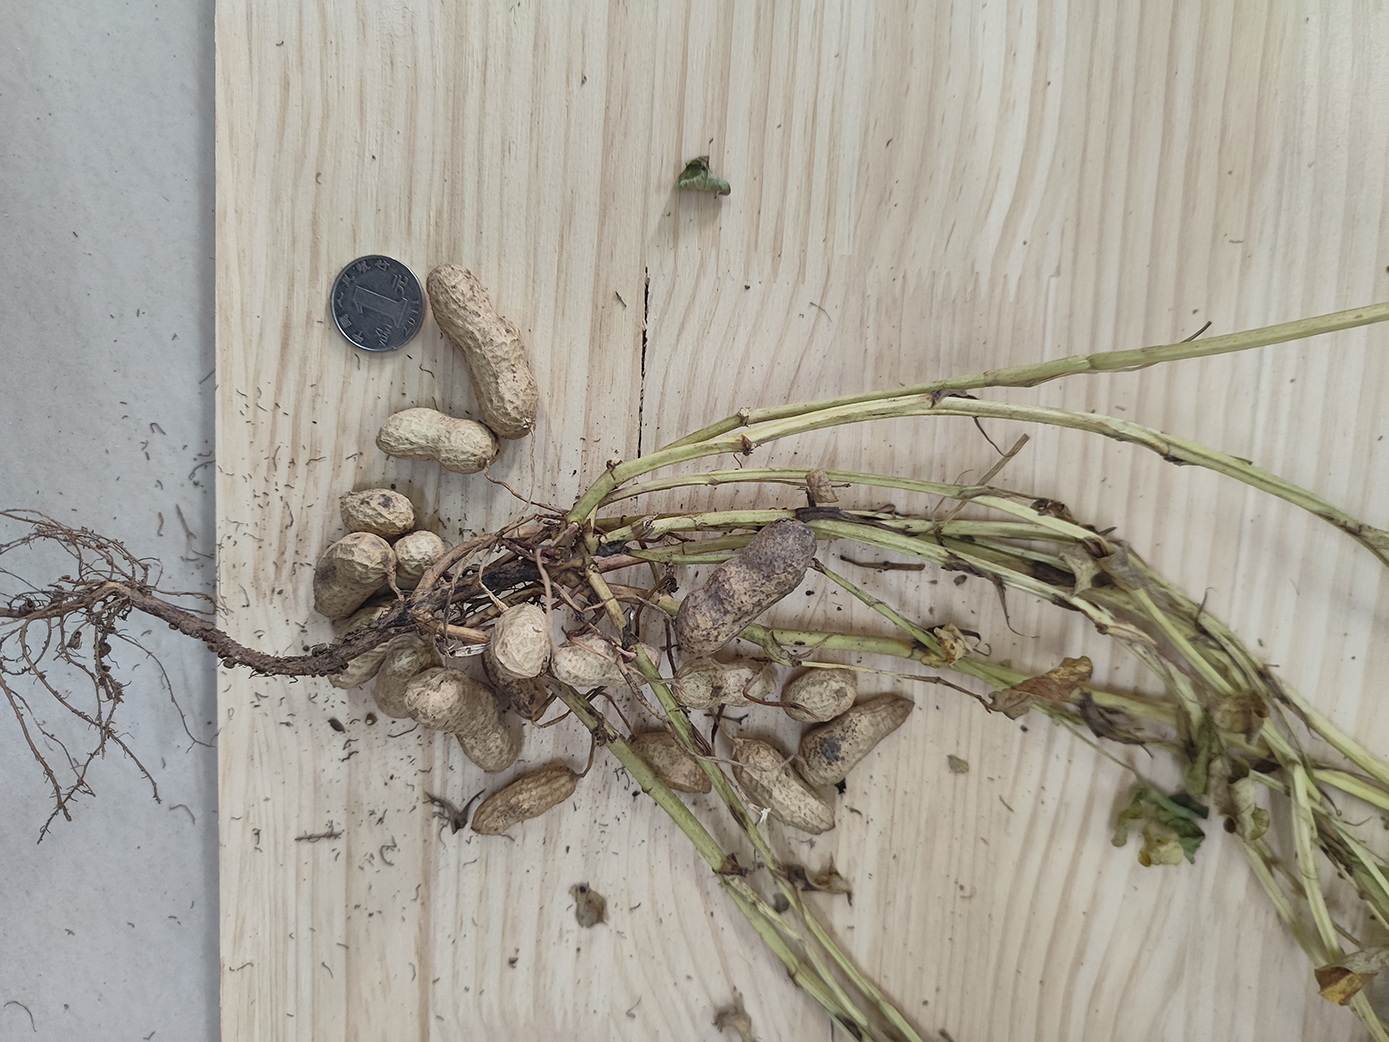h: (426, 263, 539, 445), (403, 665, 514, 775), (797, 695, 916, 787), (731, 738, 837, 833), (377, 407, 503, 473), (311, 532, 395, 618), (471, 768, 574, 837), (621, 728, 711, 799), (328, 606, 398, 686), (553, 636, 660, 687), (673, 658, 776, 710), (372, 637, 433, 720), (482, 645, 544, 722), (490, 603, 549, 678), (783, 671, 856, 723), (339, 488, 414, 537), (393, 532, 444, 582)
l: (673, 519, 817, 653)
